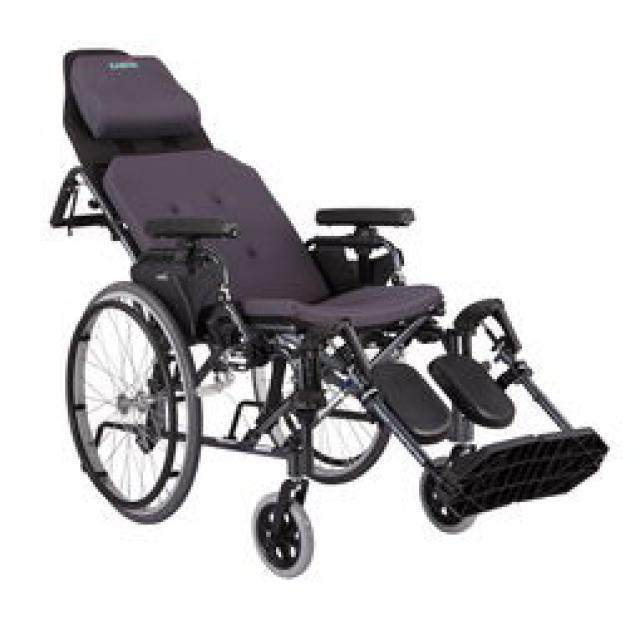wheelchair: (32, 42, 612, 590)
